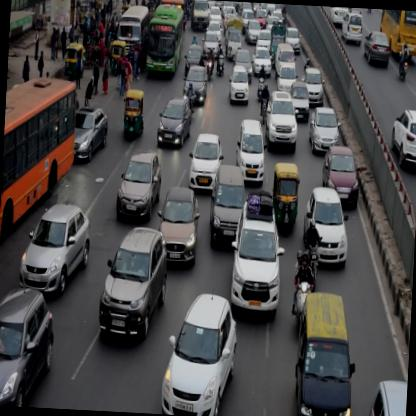bus: (0, 74, 75, 246), (148, 3, 186, 75), (377, 10, 415, 57), (117, 4, 147, 63)
car: (160, 286, 241, 415), (97, 225, 169, 345), (0, 288, 57, 408), (228, 200, 287, 314), (20, 201, 90, 292), (301, 186, 349, 265), (115, 147, 162, 221), (157, 186, 199, 266), (209, 165, 244, 247), (234, 118, 265, 182), (266, 90, 300, 148), (72, 106, 106, 162), (156, 96, 192, 148), (188, 134, 222, 188), (308, 103, 344, 153), (390, 108, 415, 168), (182, 64, 208, 102), (362, 30, 390, 64), (304, 67, 326, 107), (289, 80, 310, 121), (230, 66, 250, 104), (342, 11, 362, 44), (254, 47, 274, 72), (202, 30, 220, 54), (278, 65, 296, 89)
motorcycle: (290, 248, 314, 332), (303, 214, 321, 291), (258, 82, 272, 123), (216, 42, 224, 78)
